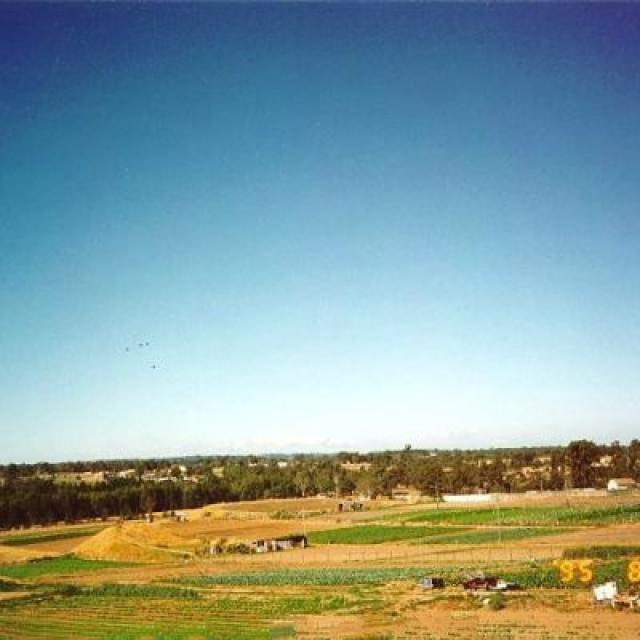St: (9, 52, 640, 435)
